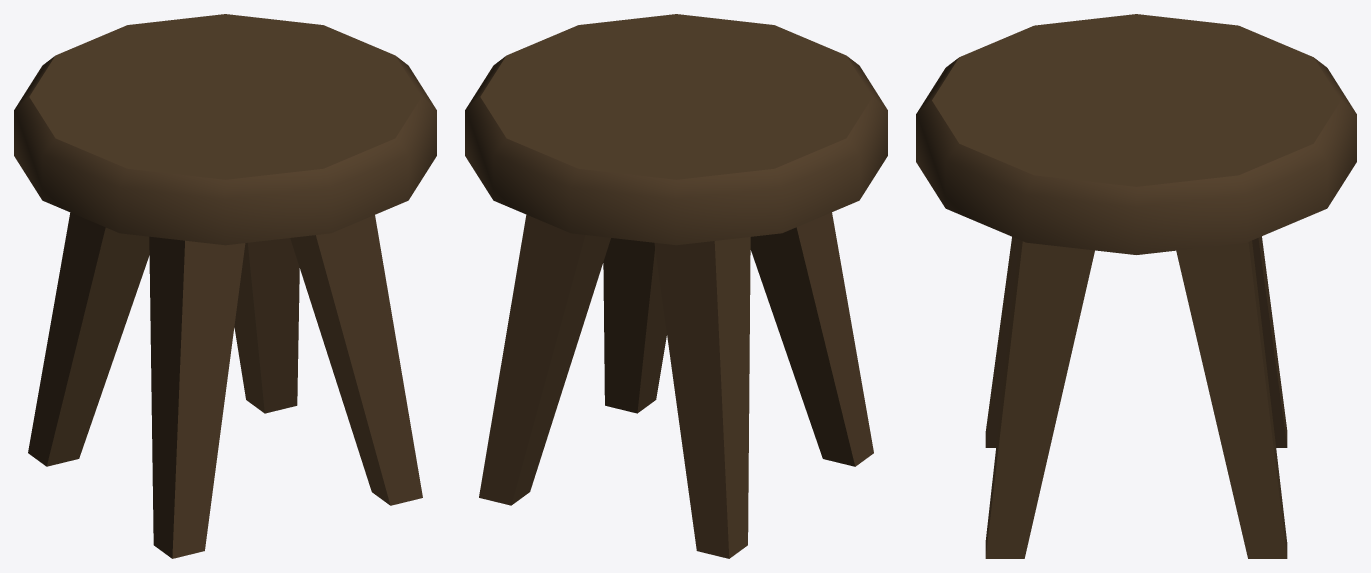
Rendered from Stool_round.glb.
3 views of the same model, side by side, from view 1: azimuth 30°, elevation 25°; view 2: azimuth 150°, elevation 25°; view 3: azimuth 270°, elevation 25° (orthographic). The views are drawn at different scales.
Parts seen in each view (by area): view 1: Stool_round; view 2: Stool_round; view 3: Stool_round.
Part boxes in pixels (x1,y1,x2,y2): Stool_round: [14, 14, 436, 558]; Stool_round: [465, 14, 887, 558]; Stool_round: [916, 14, 1356, 558].
Size of the model in its own units: 0.4844 by 0.4785 by 0.4844.
1 material, 1 textured.
